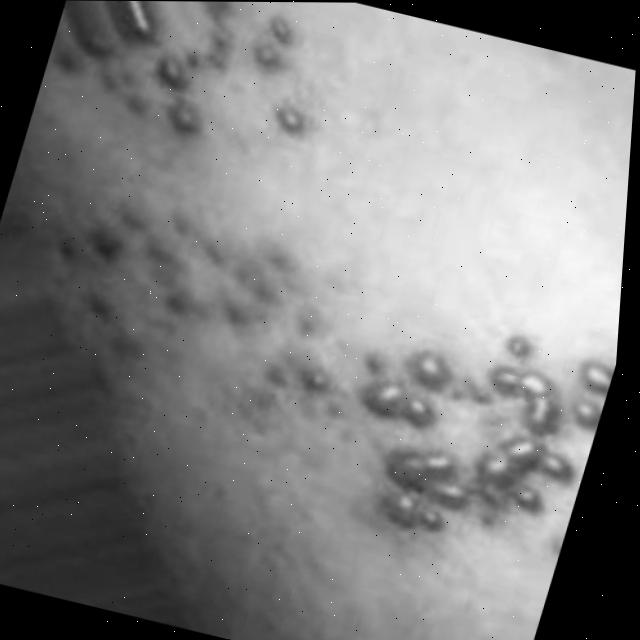Shingles: (0, 175, 385, 456), (305, 298, 620, 571), (78, 1, 335, 156)
